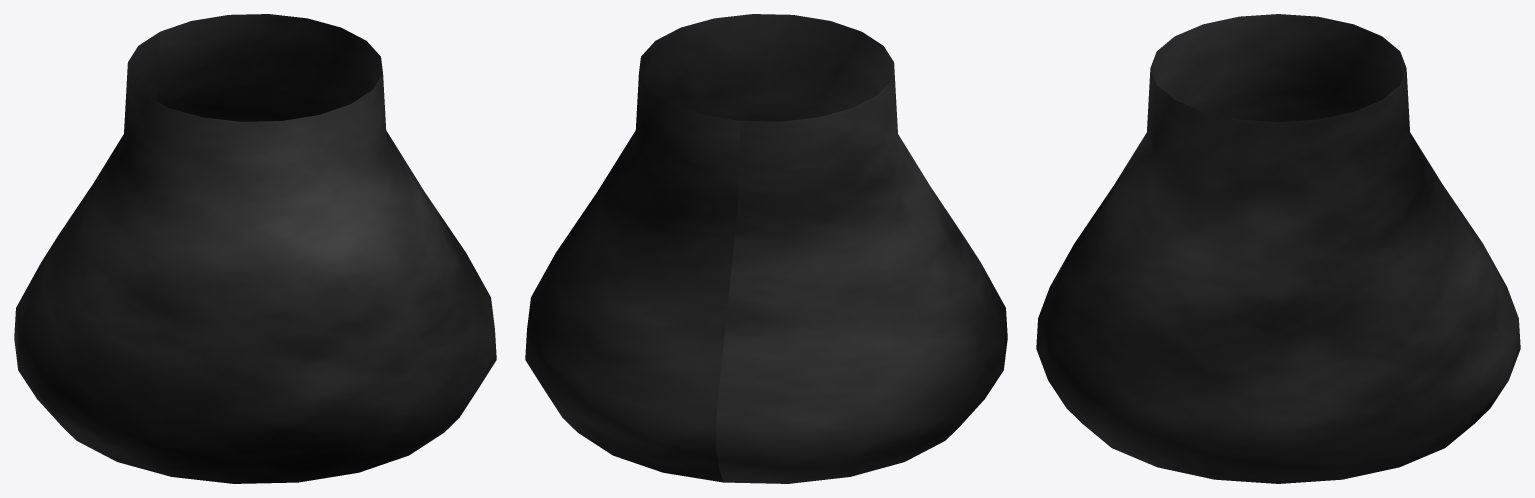
The model's file is chang1_shui1.FBX.
3 views of the same model, side by side, from view 1: azimuth 30°, elevation 25°; view 2: azimuth 150°, elevation 25°; view 3: azimuth 270°, elevation 25° (orthographic).
Parts seen in each view (by area): view 1: BLB01; view 2: BLB01; view 3: BLB01.
Part boxes in pixels (bbox=[...]): BLB01: bbox=[14, 14, 496, 483]; BLB01: bbox=[525, 14, 1007, 483]; BLB01: bbox=[1036, 14, 1520, 483].
Size of the model in its own units: 7.92 by 5.93 by 7.92.
